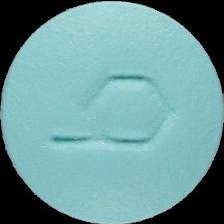0093-3134: (0, 0, 224, 224)
